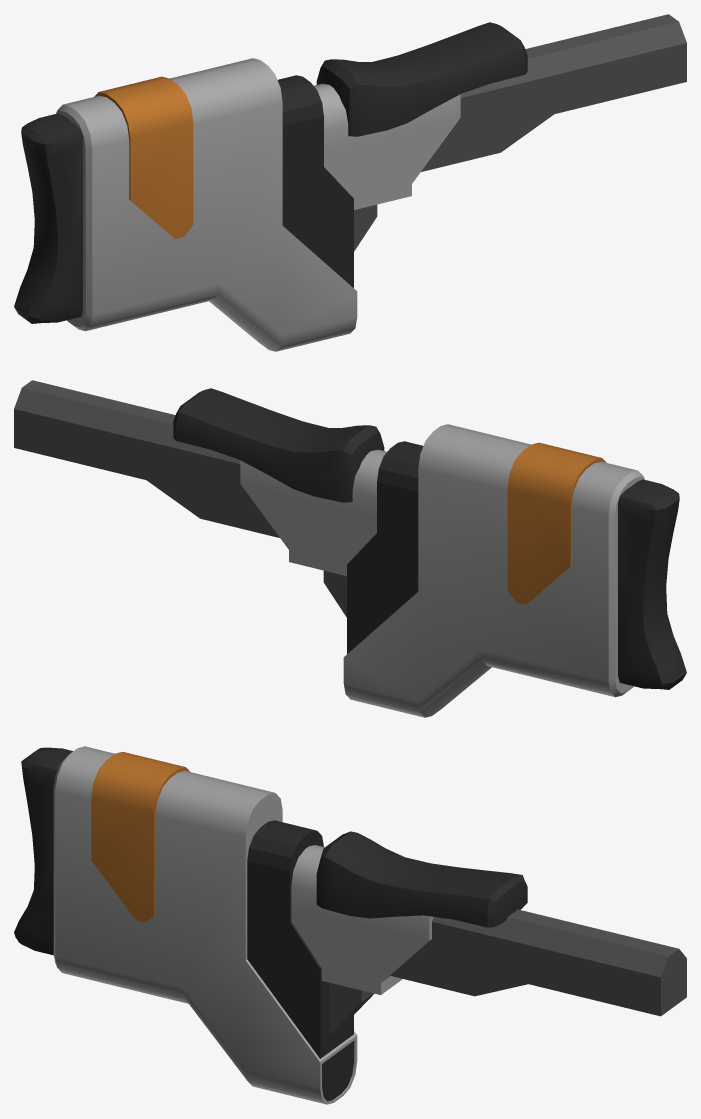
The model's file is quaternius-modular-sci-fi-guns-stock-2.glb.
3 views of the same model, one above another, from view 1: azimuth 30°, elevation 25°; view 2: azimuth 150°, elevation 25°; view 3: azimuth 330°, elevation 25° (orthographic).
Parts seen in each view (by area): view 1: Stock_2; view 2: Stock_2; view 3: Stock_2.
Boxes of the visible parts, x1,y1,x2,y2 form: Stock_2: (14,14,686,351); Stock_2: (14,380,686,717); Stock_2: (14,746,686,1104).
Size of the model in its own units: 1.12 by 0.4685 by 0.1155.
